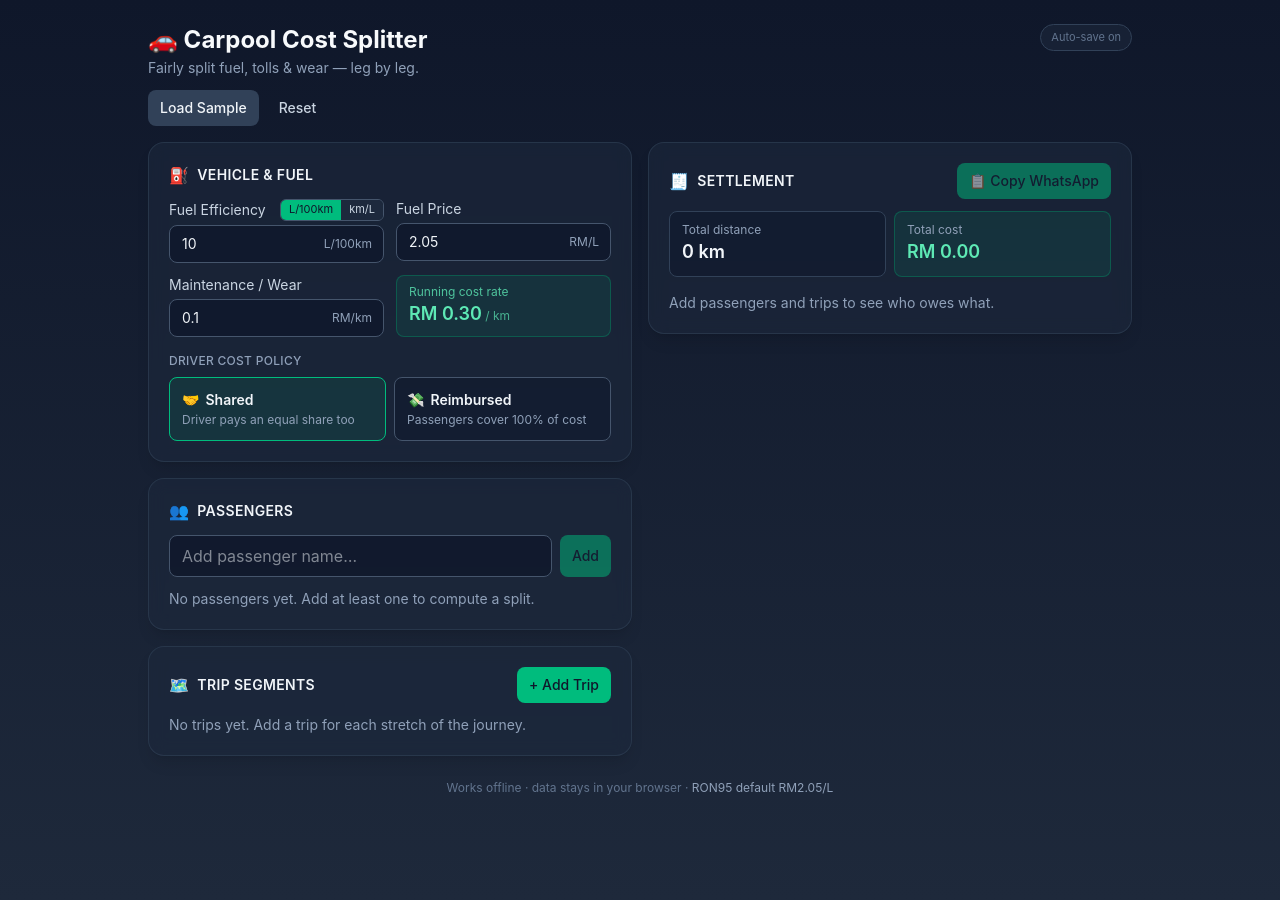
Test: App integration › adds a passenger and persists to localStorage
Type "Zara" into the field with placeholder "Add passenger name…" at (360, 556), box x1=169 y1=535 x2=552 y2=577
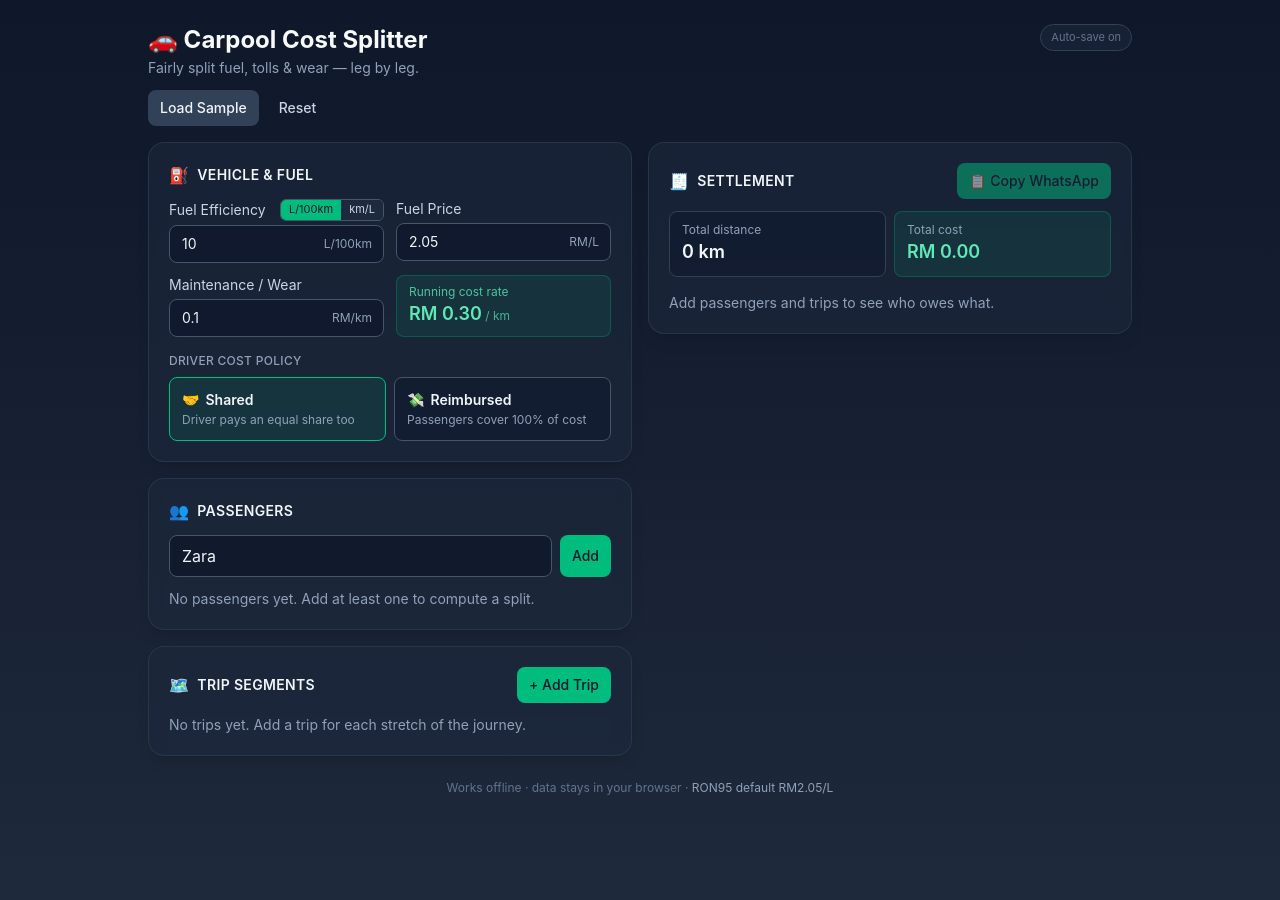
Click the button "Add" at (585, 556), box x1=560 y1=535 x2=611 y2=577
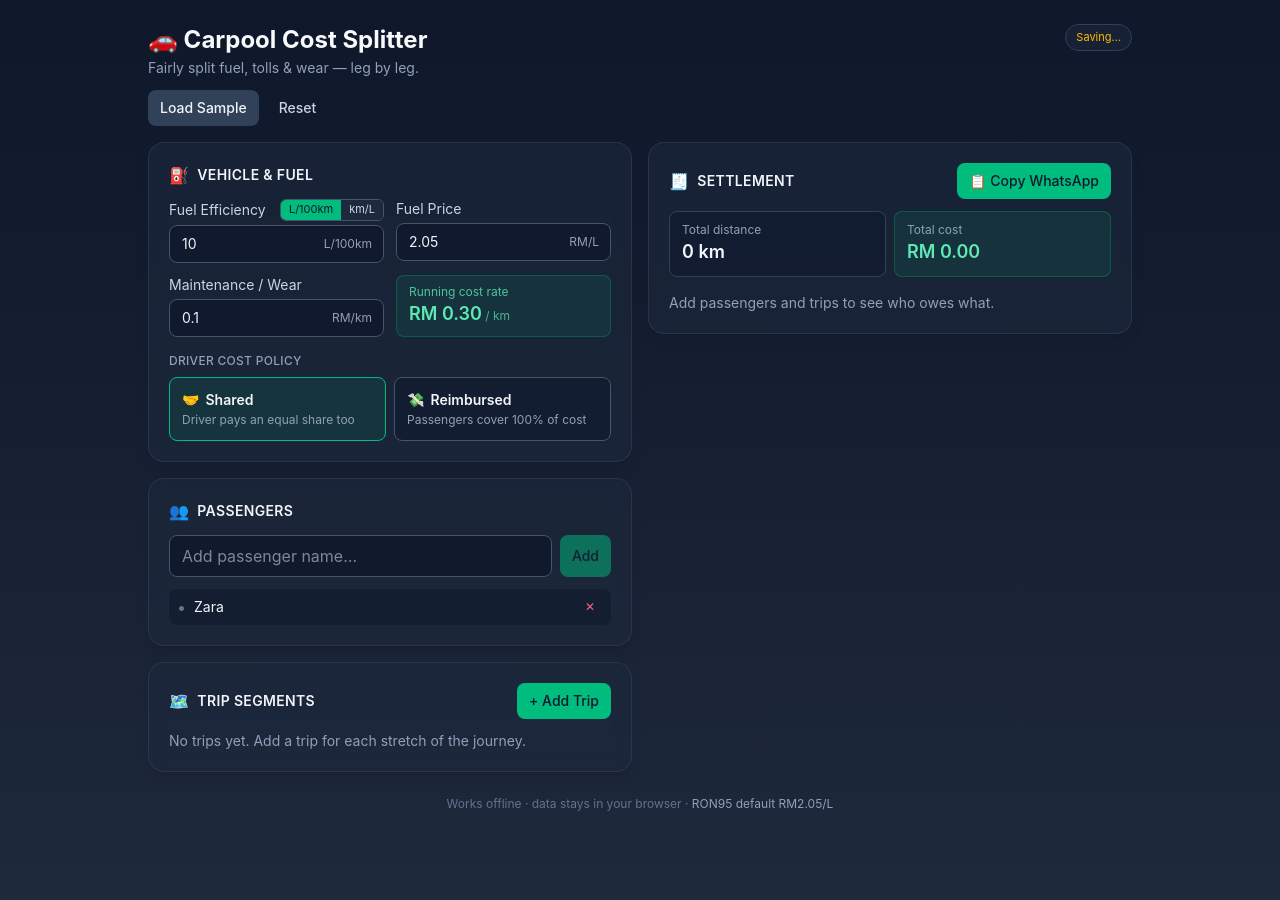
Check: the field showing "Zara" is shown, box x1=194 y1=597 x2=569 y2=617
